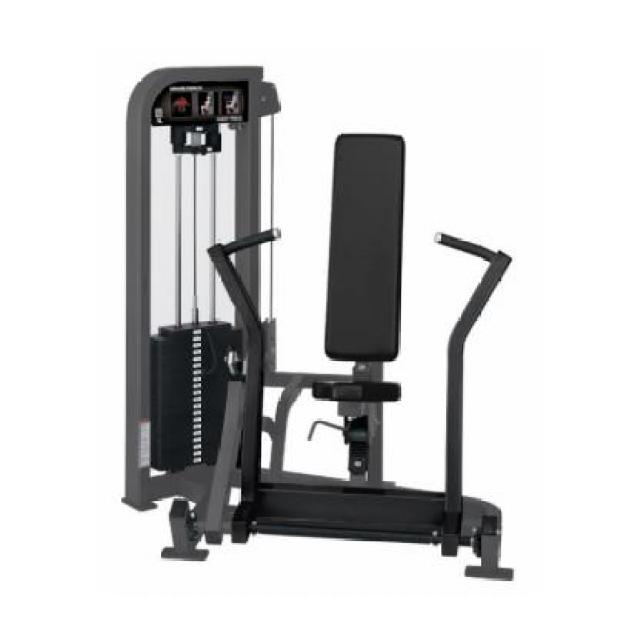Chest Press machine: (118, 52, 531, 596)
